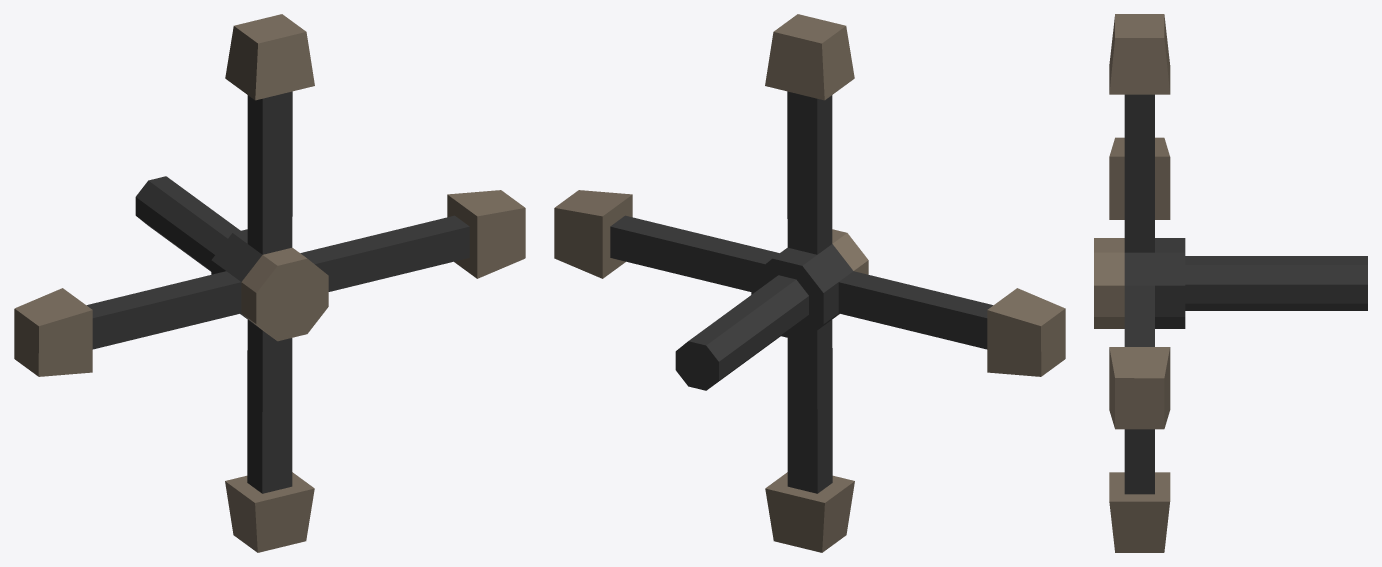
Rendered from steampunk_valve_2.fbx.
3 views of the same model, side by side, from view 1: azimuth 30°, elevation 25°; view 2: azimuth 150°, elevation 25°; view 3: azimuth 270°, elevation 25° (orthographic).
Parts seen in each view (by area): view 1: Cylinder.023; view 2: Cylinder.023; view 3: Cylinder.023.
Boxes of the visible parts, box(x1,y1,x2,y2) form: Cylinder.023: box(14, 14, 525, 552); Cylinder.023: box(554, 14, 1065, 552); Cylinder.023: box(1094, 14, 1367, 552).
Bounding box in the file's own units: 0.6232 × 0.6232 × 0.3.
